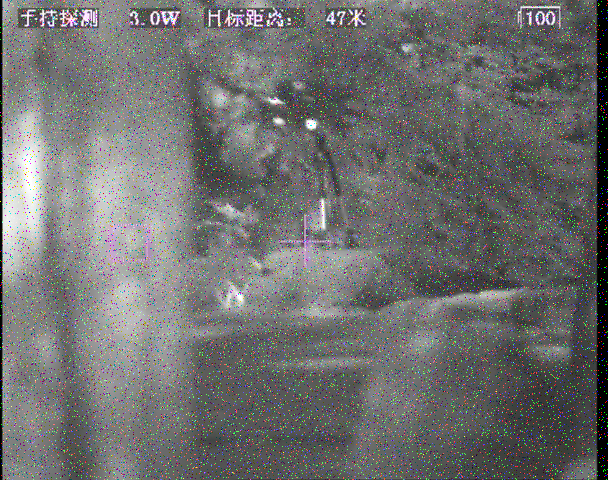my: (305, 117, 318, 131)
